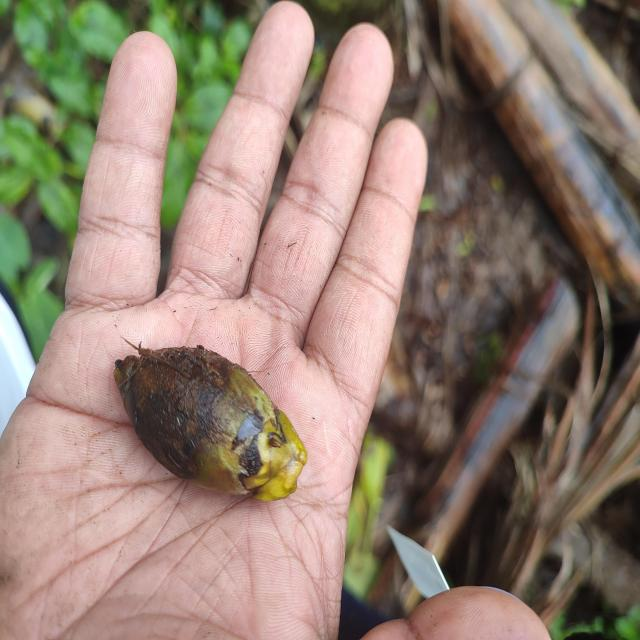damaged: (111, 348, 309, 505)
